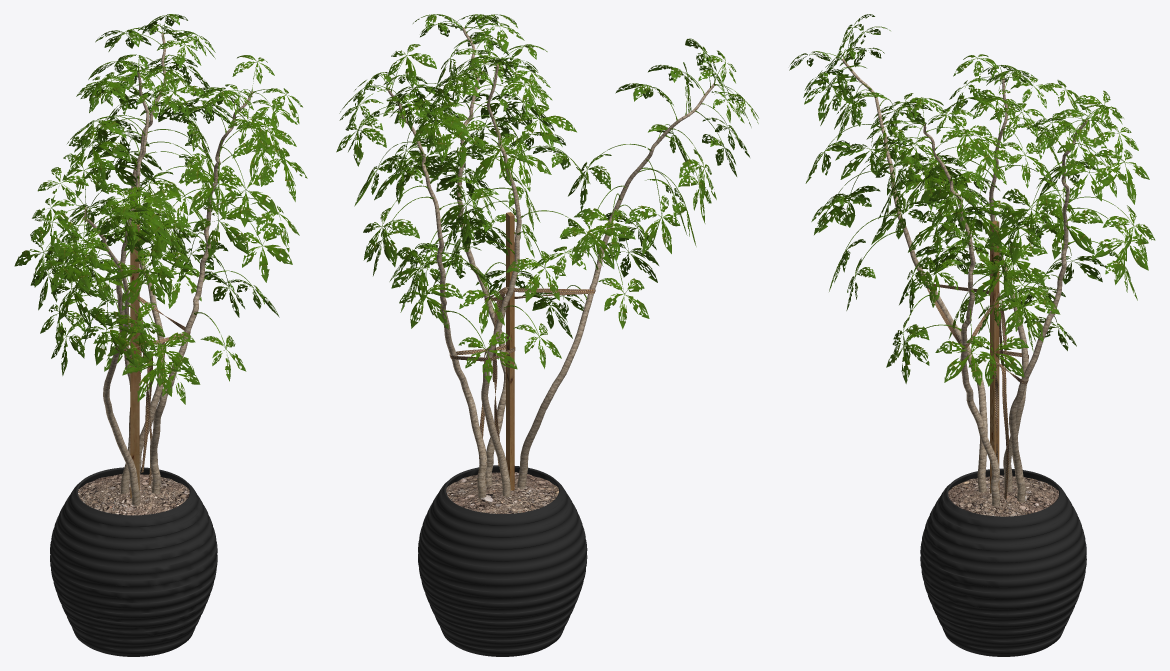
File: skbe65b876.glb
The picture shows the model from 3 angles, left to right: view 1: azimuth 30°, elevation 25°; view 2: azimuth 150°, elevation 25°; view 3: azimuth 270°, elevation 25°; orthographic projection.
Parts seen in each view (by area): view 1: plant_2, Vase_3, Erde_4, Stiel2_6, Stiel1_5, Stange_9, Stiel3_7, Stiel4_8, Band1_11; view 2: plant_2, Vase_3, Erde_4, Stiel1_5, Stiel4_8, Stiel3_7, Stange_9, Stiel2_6, Band2_10, Band1_11; view 3: plant_2, Vase_3, Erde_4, Stiel3_7, Stiel2_6, Stiel1_5, Stange_9, Stiel4_8, Band1_11, Band2_10.
Boxes of the visible parts, x1,y1,x2,y2 form: plant_2: (14,14,307,404); Vase_3: (50,467,217,656); Erde_4: (78,474,189,515); Stiel2_6: (150,91,252,493); Stiel1_5: (83,207,140,506); Stange_9: (130,223,139,498); Stiel3_7: (130,32,166,484); Stiel4_8: (116,70,149,493); Band1_11: (124,340,164,484); plant_2: (336,14,758,383); Vase_3: (418,465,587,656); Erde_4: (446,472,558,513); Stiel1_5: (517,84,714,489); Stiel4_8: (481,64,521,496); Stiel3_7: (387,88,487,498); Stange_9: (506,212,514,490); Stiel2_6: (456,27,505,486); Band2_10: (484,287,595,382); Band1_11: (449,345,515,484); plant_2: (789,14,1155,386); Vase_3: (920,468,1086,656); Erde_4: (948,475,1058,516); Stiel3_7: (1009,119,1087,502); Stiel2_6: (923,124,999,506); Stiel1_5: (842,58,987,492); Stange_9: (990,220,999,493); Stiel4_8: (989,78,1028,492); Band1_11: (990,350,1028,499); Band2_10: (927,284,1006,380).
Bounding box in the file's own units: 0.8532 × 1.5 × 0.859.
6 materials, 5 textured.
